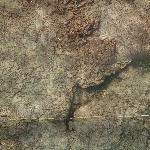dead: (8, 6, 141, 135)
